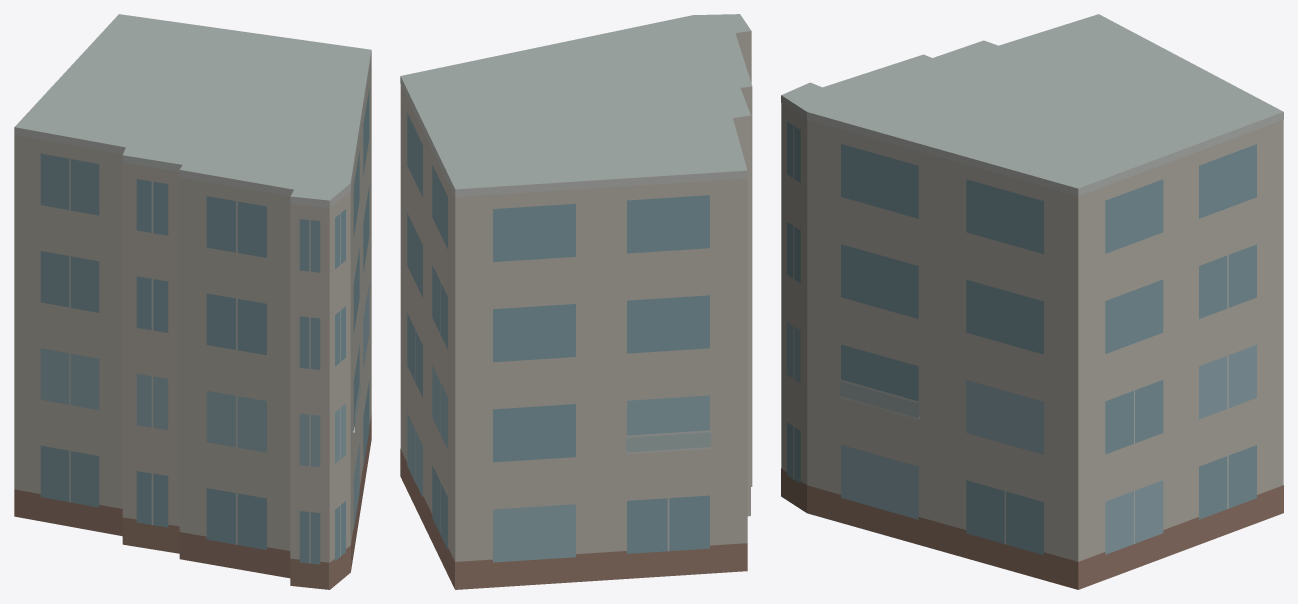
Rendered from survey-upis-32673025.glb.
3 renders of one model, left to right at view 1: azimuth 30°, elevation 25°; view 2: azimuth 150°, elevation 25°; view 3: azimuth 270°, elevation 25°, orthographic. The views are drawn at different scales.
Parts seen in each view (by area): view 1: survey-upis-32673025.tmp; view 2: survey-upis-32673025.tmp; view 3: survey-upis-32673025.tmp.
Part boxes in pixels (<box>): survey-upis-32673025.tmp: <box>14,14,371,589</box>; survey-upis-32673025.tmp: <box>400,14,752,589</box>; survey-upis-32673025.tmp: <box>781,14,1283,589</box>.
Size of the model in its own units: 11.82 by 12.66 by 14.38.
